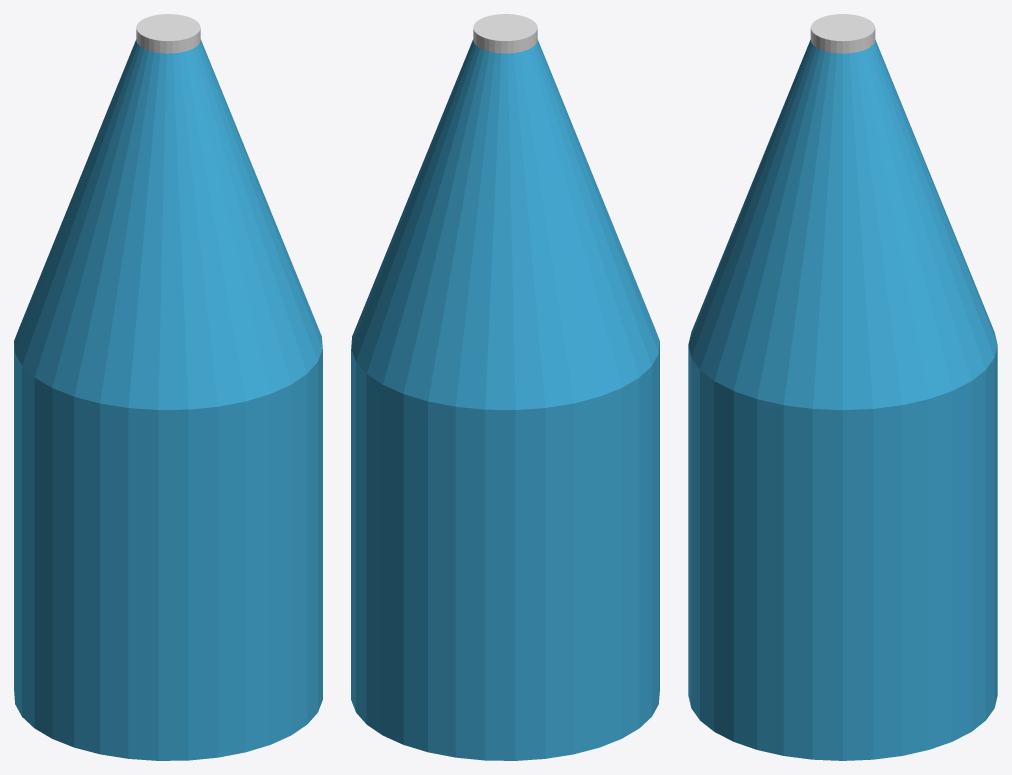
File: AirMineral.glb
3 renders of one model, left to right at view 1: azimuth 30°, elevation 25°; view 2: azimuth 150°, elevation 25°; view 3: azimuth 270°, elevation 25°, orthographic.
Parts seen in each view (by area): view 1: Cylinder.009; view 2: Cylinder.009; view 3: Cylinder.009.
Part boxes in pixels (bbox=[...]): Cylinder.009: bbox=[14, 14, 322, 760]; Cylinder.009: bbox=[351, 14, 659, 760]; Cylinder.009: bbox=[688, 14, 997, 760].
Size of the model in its own units: 0.0763 by 0.1819 by 0.0763.
